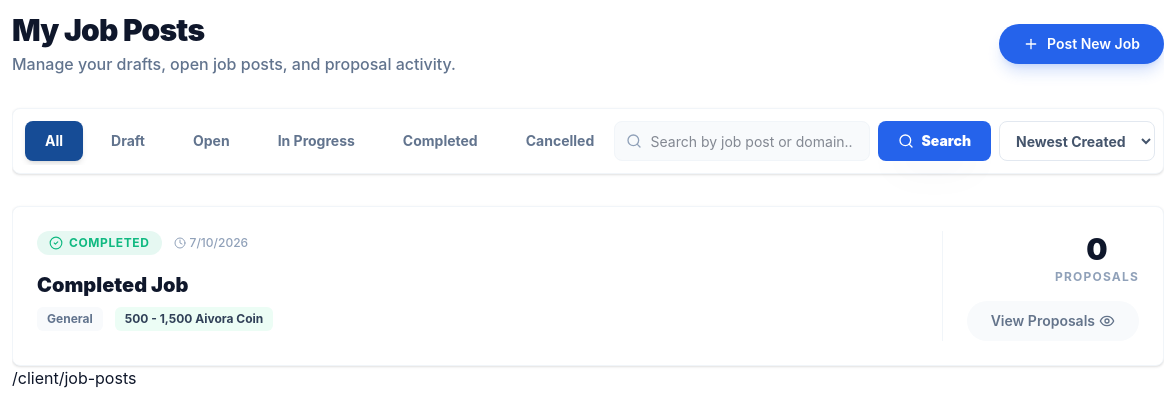
Test: MyJobPostsPage › Title navigation › navigates to the proposal list for a completed job post
Click the link "Completed Job".
click(113, 285)  # box [37, 271, 188, 299]
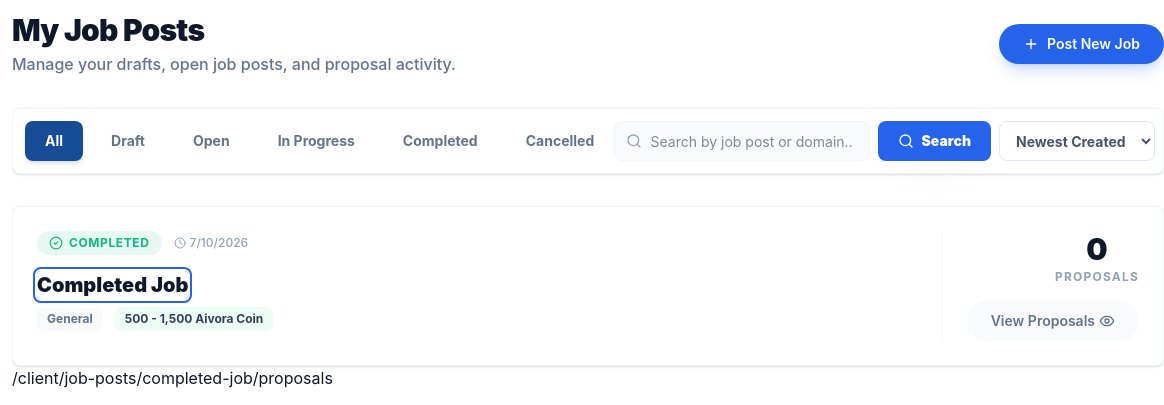
Result: the text named "current path" reads "/client/job-posts/completed-job/proposals" at [12, 368, 333, 388]
